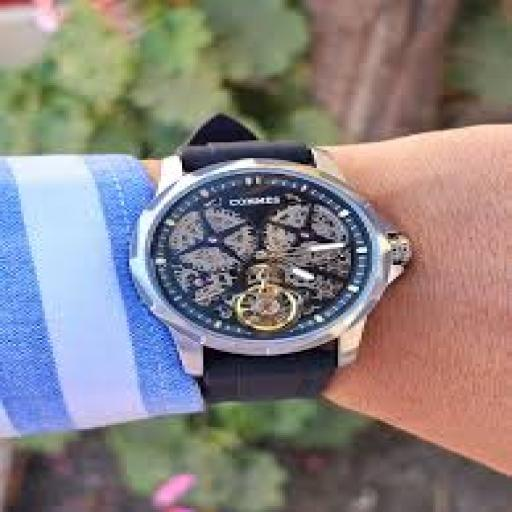KolSaati: (115, 97, 394, 418)
